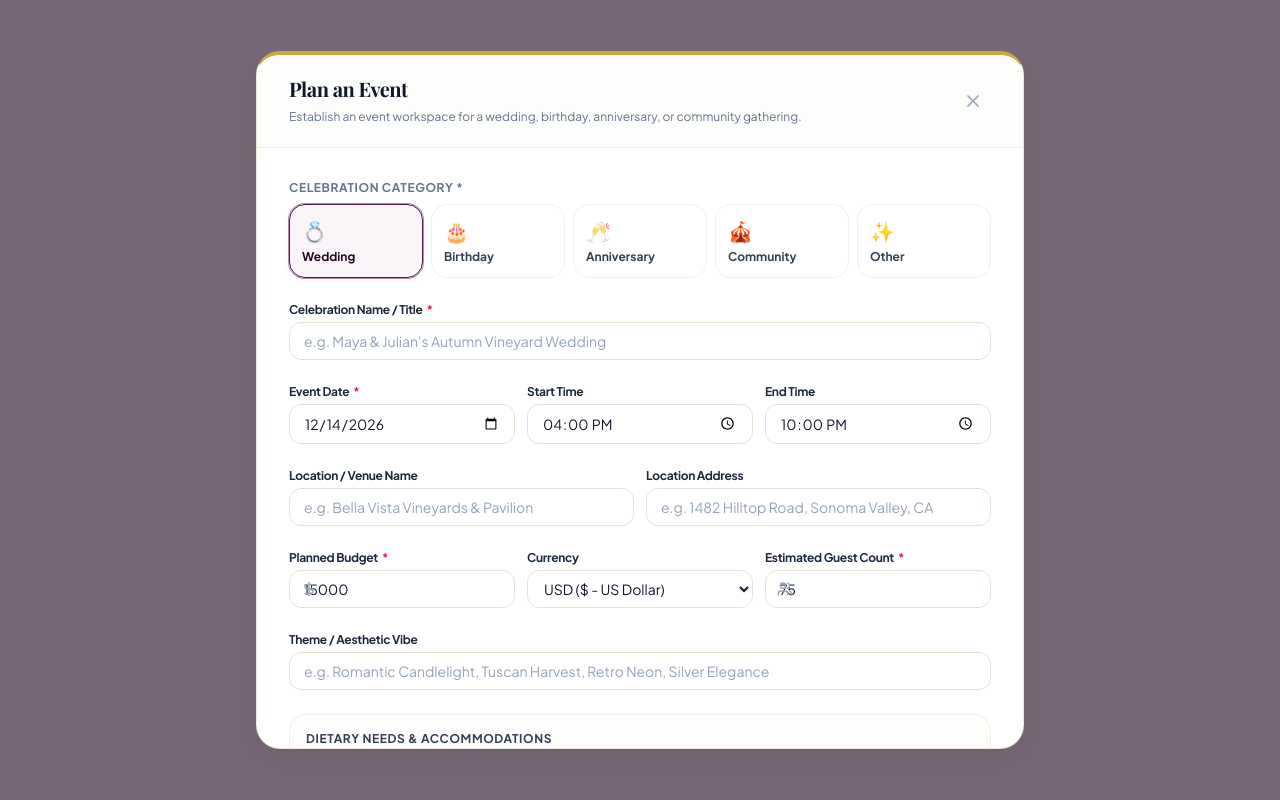
Scenario: Event Lifecycle: PlanEventModal & Storage DAL (RTL Tests) › Form Validation & Boundary Checks › displays validation error message when submitting a title shorter than 2 characters
The image size is (1280, 800).
Type "A" into the field labelled "Celebration Name / Title*" at (640, 341), box [289, 322, 991, 360]
(page scrolled)
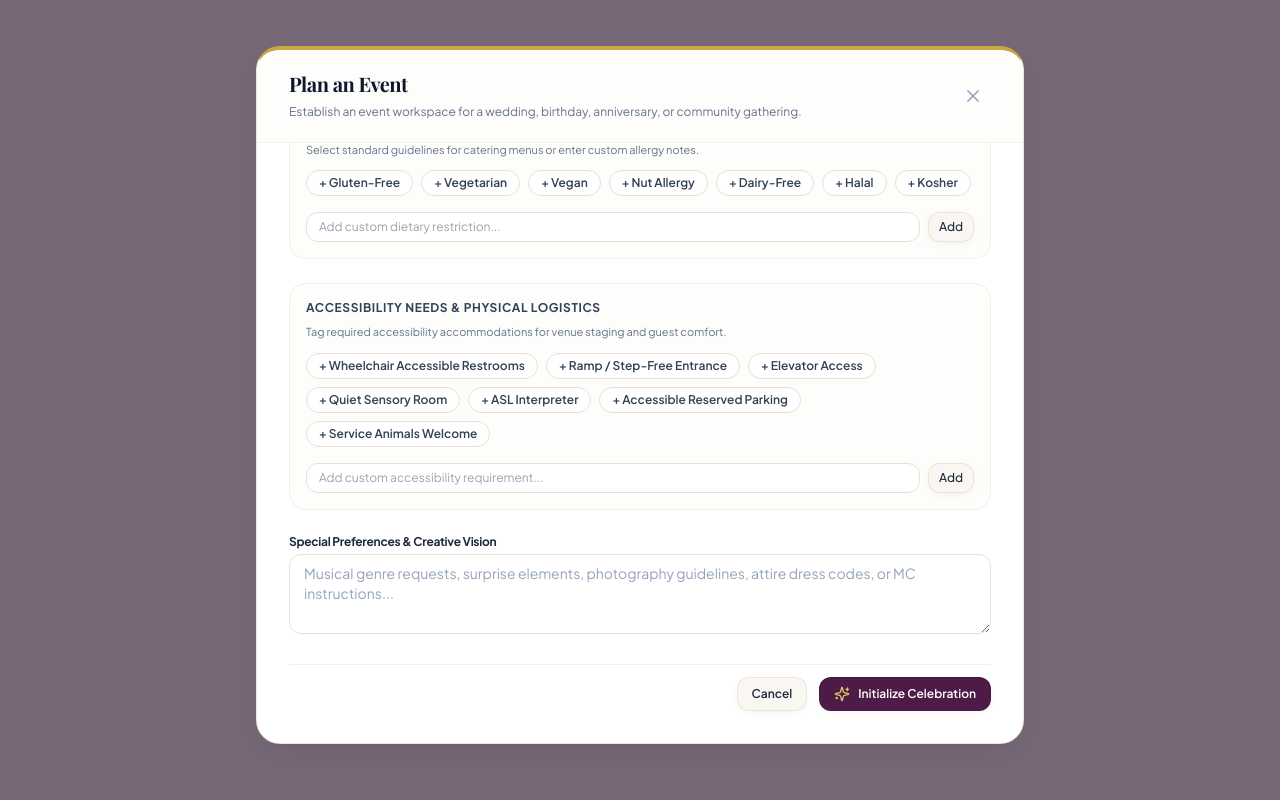
Click the button "Initialize Celebration" at (905, 694), box [819, 677, 991, 711]
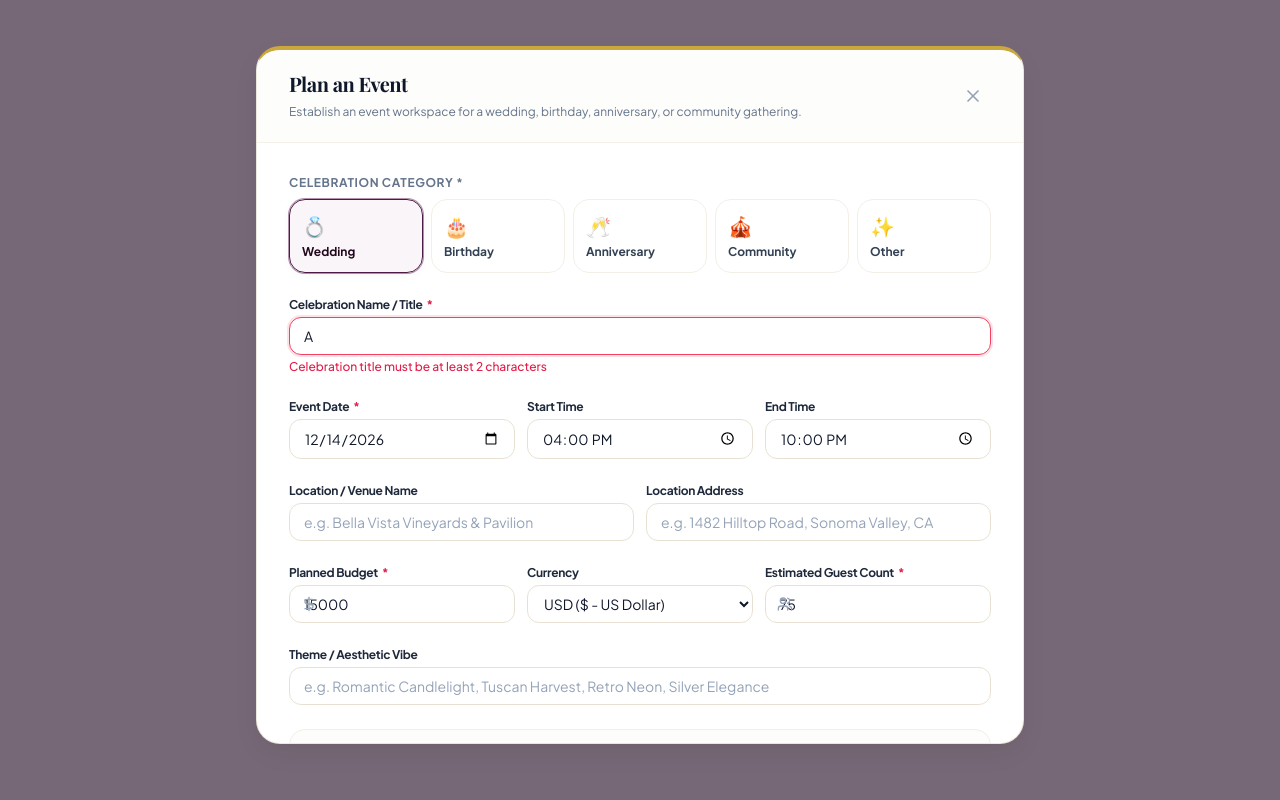
Now the text "Celebration title must be at least 2 characters" is shown, box [289, 359, 547, 374]
